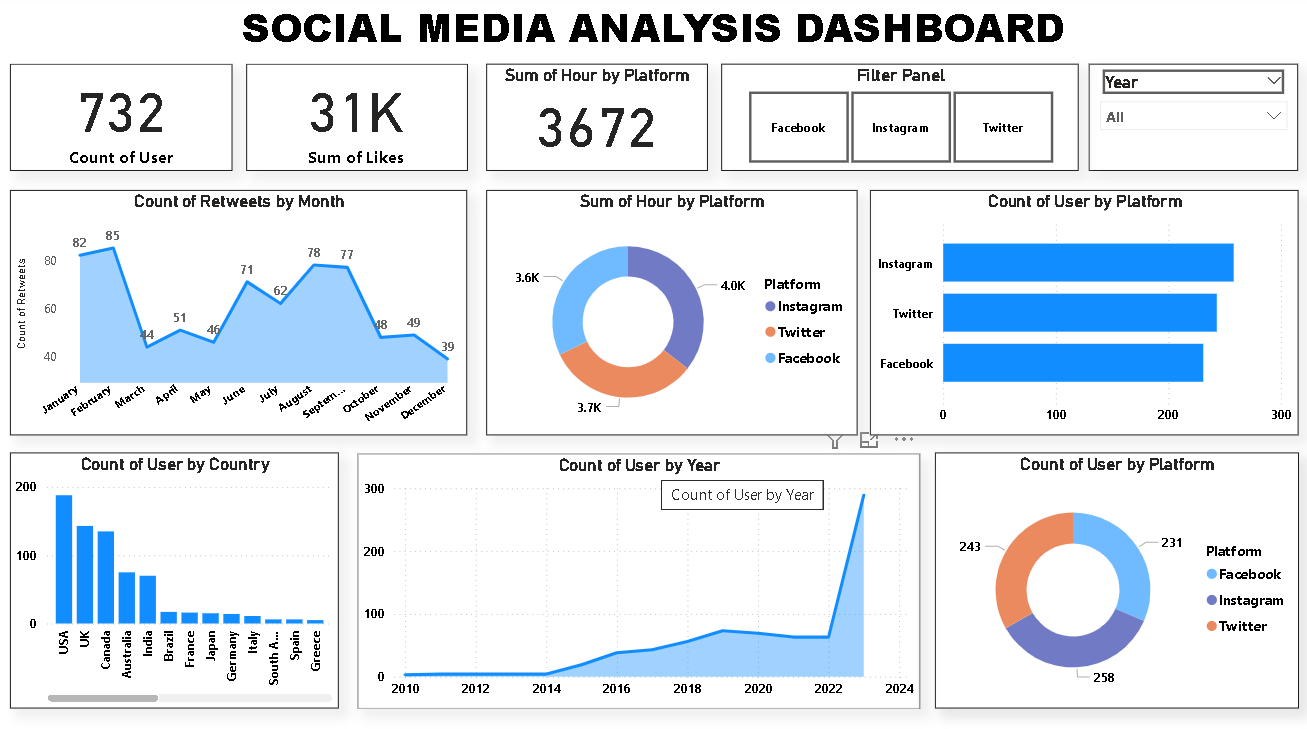

What the dashboard file says about the page in this screenshot:
{"tool":"powerbi","page":{"name":"Page 1","canvas":[1280,720],"ordinal":0},"visuals":[{"type":"donutChart","fields":{"Series":["Cleaned_Social_Media_Data.Platform"],"Y":["CountNonNull(Cleaned_Social_Media_Data.User)"]},"box":[914.7,447.6,355.8,250.7],"z":1000},{"type":"stackedAreaChart","fields":{"Category":["Cleaned_Social_Media_Data.Year"],"Y":["CountNonNull(Cleaned_Social_Media_Data.User)"]},"box":[349.7,448.8,550.3,249.5],"z":2000},{"type":"card","fields":{"Values":["CountNonNull(Cleaned_Social_Media_Data.User)"]},"box":[9.8,67.3,217.7,105.2],"z":3000},{"type":"clusteredBarChart","fields":{"Category":["Cleaned_Social_Media_Data.Platform"],"Y":["CountNonNull(Cleaned_Social_Media_Data.User)"]},"box":[851.1,190.8,419.4,239.7],"z":4000},{"type":"clusteredColumnChart","fields":{"Category":["Cleaned_Social_Media_Data.Country"],"Y":["CountNonNull(Cleaned_Social_Media_Data.User)"]},"box":[9.8,447.6,321.6,250.7],"z":5000},{"type":"card","fields":{"Values":["Sum(Cleaned_Social_Media_Data.Likes)"]},"box":[240.9,67.3,216.4,105.2],"z":6000},{"type":"stackedAreaChart","fields":{"Y":["CountNonNull(Cleaned_Social_Media_Data.Retweets)"],"Category":["Cleaned_Social_Media_Data.Timestamp.Variation.Date Hierarchy.Month"]},"box":[9.8,190.8,447.6,240],"z":7000},{"type":"donutChart","fields":{"Y":["Sum(Cleaned_Social_Media_Data.Hour)"],"Category":["Cleaned_Social_Media_Data.Platform"]},"box":[475.7,190.8,363.2,239.7],"z":8000},{"type":"kpi","fields":{"Indicator":["Sum(Cleaned_Social_Media_Data.Hour)"],"TrendLine":["Cleaned_Social_Media_Data.Platform"]},"box":[475.7,67.3,216.4,105.2],"z":9000},{"type":"textbox","box":[0,0,1280.3,67.3],"z":10000},{"type":"slicer","fields":{"Values":["Cleaned_Social_Media_Data.Year"]},"box":[1065.1,67.3,205,105.2],"z":11000},{"type":"slicer","title":"Filter Panel","fields":{"Values":["Cleaned_Social_Media_Data.Platform"]},"box":[705.6,67.3,349.7,105.2],"z":12000}]}

Visuals, with their boxes in screenshot pixels (x1, y1, x2, y2), scaled from the page's 1280x720 canvas onto the 1307x729 screenshot:
donutChart - Cleaned_Social_Media_Data.Platform x CountNonNull(Cleaned_Social_Media_Data.User): locate(934, 453, 1297, 707)
stackedAreaChart - Cleaned_Social_Media_Data.Year x CountNonNull(Cleaned_Social_Media_Data.User): locate(357, 454, 919, 707)
card - CountNonNull(Cleaned_Social_Media_Data.User): locate(10, 68, 232, 175)
clusteredBarChart - Cleaned_Social_Media_Data.Platform x CountNonNull(Cleaned_Social_Media_Data.User): locate(869, 193, 1297, 436)
clusteredColumnChart - Cleaned_Social_Media_Data.Country x CountNonNull(Cleaned_Social_Media_Data.User): locate(10, 453, 338, 707)
card - Sum(Cleaned_Social_Media_Data.Likes): locate(246, 68, 467, 175)
stackedAreaChart - CountNonNull(Cleaned_Social_Media_Data.Retweets) x Cleaned_Social_Media_Data.Timestamp.Variation.Date Hierarchy.Month: locate(10, 193, 467, 436)
donutChart - Sum(Cleaned_Social_Media_Data.Hour) x Cleaned_Social_Media_Data.Platform: locate(486, 193, 857, 436)
kpi - Sum(Cleaned_Social_Media_Data.Hour) x Cleaned_Social_Media_Data.Platform: locate(486, 68, 707, 175)
textbox: locate(0, 0, 1306, 68)
slicer - Cleaned_Social_Media_Data.Year: locate(1088, 68, 1297, 175)
"Filter Panel" slicer: locate(720, 68, 1078, 175)
